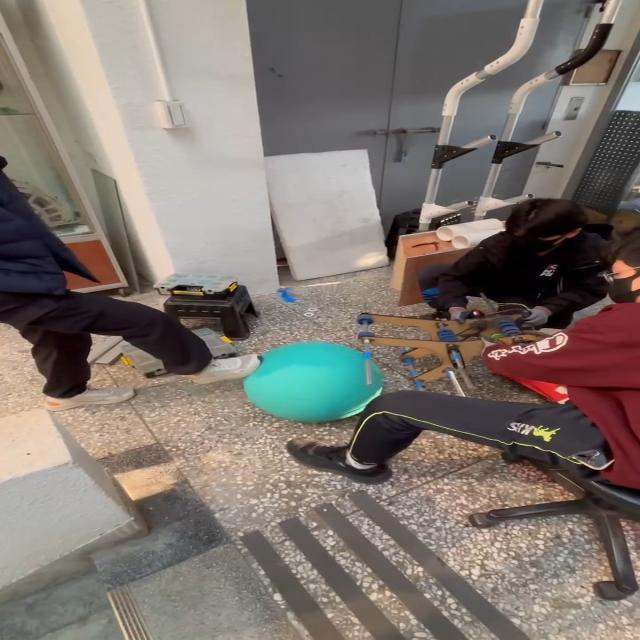ALGAE: (240, 340, 385, 424)
